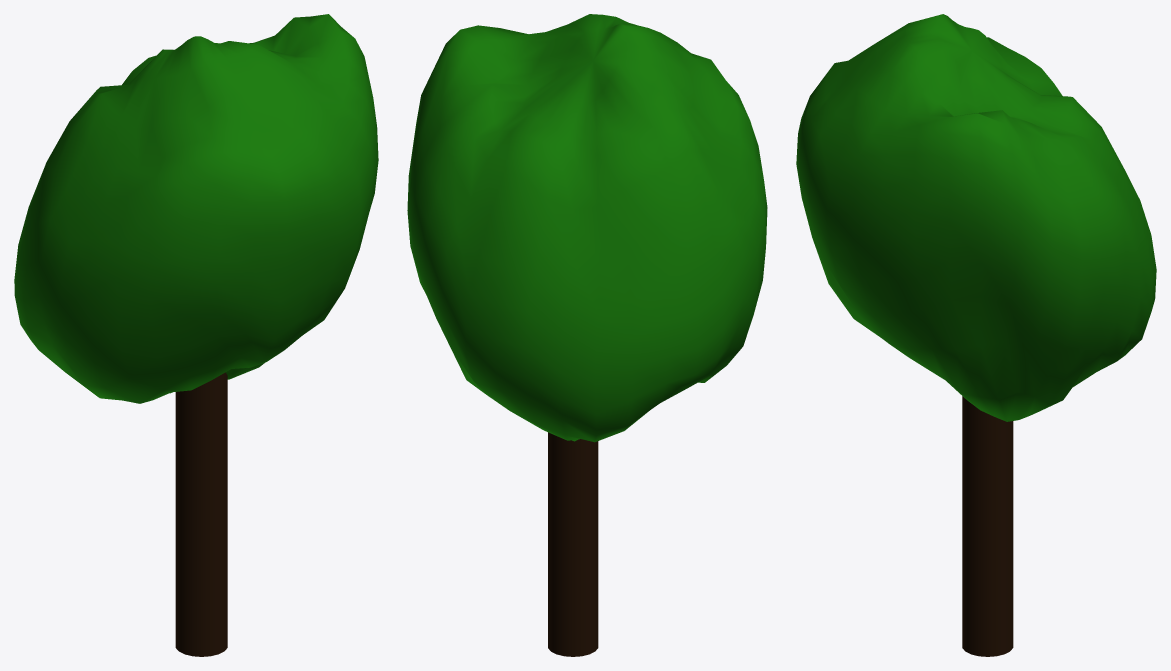
Rendered from Tree2.FBX.
3 renders of one model, left to right at view 1: azimuth 30°, elevation 25°; view 2: azimuth 150°, elevation 25°; view 3: azimuth 270°, elevation 25°, orthographic. The views are drawn at different scales.
Parts seen in each view (by area): view 1: Sphere001, Cylinder001; view 2: Sphere001, Cylinder001; view 3: Sphere001, Cylinder001.
Boxes of the visible parts, bbox=[...] form: Sphere001: bbox=[14, 14, 378, 403]; Cylinder001: bbox=[175, 372, 227, 656]; Sphere001: bbox=[407, 14, 767, 442]; Cylinder001: bbox=[548, 432, 598, 656]; Sphere001: bbox=[796, 14, 1156, 421]; Cylinder001: bbox=[962, 396, 1013, 656].
Bounding box in the file's own units: 2.79 × 5.28 × 2.79.
